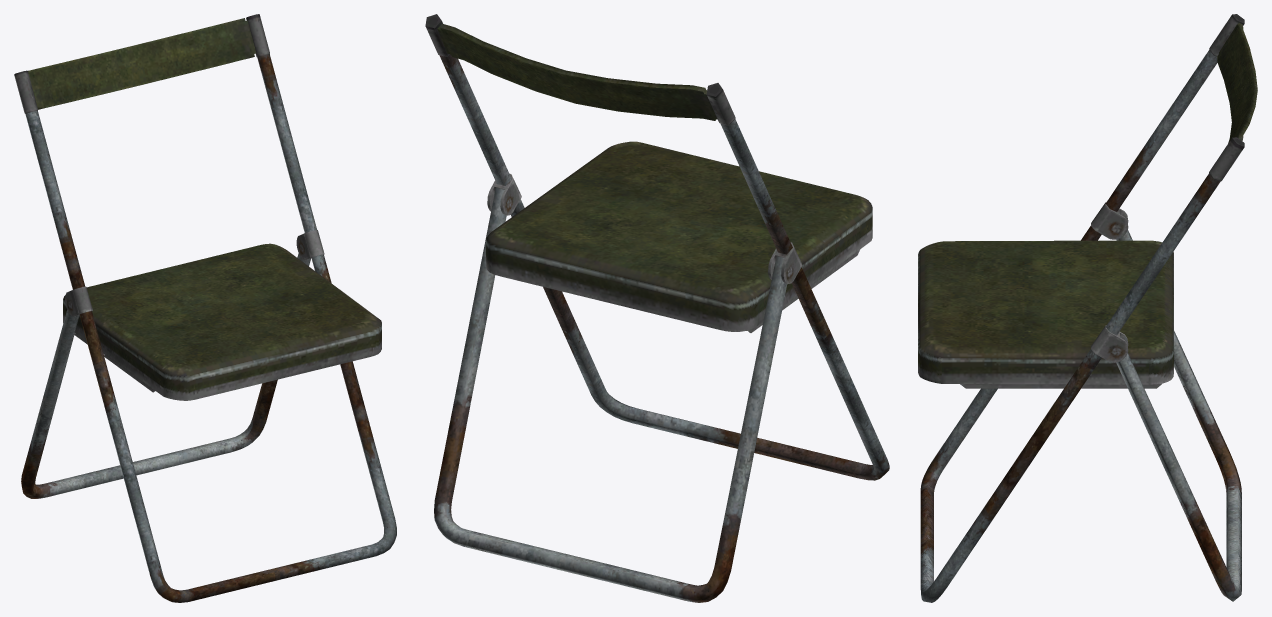
Rendered from 056_FoldingChair.fbx.
The picture shows the model from 3 angles, left to right: view 1: azimuth 30°, elevation 25°; view 2: azimuth 150°, elevation 25°; view 3: azimuth 270°, elevation 25°; orthographic projection. The views are drawn at different scales.
Visible parts, largest first — view 1: LOD_1_Group_4_Sub_1__sm30_056_FoldingChair01A_A_Mat, LOD_1_Group_3_Sub_1__sm30_056_FoldingChair01A_A_Mat, LOD_1_Group_1_Sub_1__sm30_056_FoldingChair01A_A_Mat, LOD_1_Group_5_Sub_1__sm30_056_FoldingChair01A_A_Mat, LOD_1_Group_0_Sub_1__sm30_056_FoldingChair01A_A_Mat; view 2: LOD_1_Group_4_Sub_1__sm30_056_FoldingChair01A_A_Mat, LOD_1_Group_5_Sub_1__sm30_056_FoldingChair01A_A_Mat, LOD_1_Group_3_Sub_1__sm30_056_FoldingChair01A_A_Mat, LOD_1_Group_1_Sub_1__sm30_056_FoldingChair01A_A_Mat, LOD_1_Group_0_Sub_1__sm30_056_FoldingChair01A_A_Mat; view 3: LOD_1_Group_4_Sub_1__sm30_056_FoldingChair01A_A_Mat, LOD_1_Group_3_Sub_1__sm30_056_FoldingChair01A_A_Mat, LOD_1_Group_5_Sub_1__sm30_056_FoldingChair01A_A_Mat, LOD_1_Group_1_Sub_1__sm30_056_FoldingChair01A_A_Mat, LOD_1_Group_0_Sub_1__sm30_056_FoldingChair01A_A_Mat, LOD_1_Group_6_Sub_1__sm30_056_FoldingChair01A_A_Mat.
Part boxes in pixels (x1=…): LOD_1_Group_4_Sub_1__sm30_056_FoldingChair01A_A_Mat: x1=63, y1=243, x2=381, y2=400; LOD_1_Group_3_Sub_1__sm30_056_FoldingChair01A_A_Mat: x1=14, y1=14, x2=396, y2=602; LOD_1_Group_1_Sub_1__sm30_056_FoldingChair01A_A_Mat: x1=28, y1=18, x2=256, y2=109; LOD_1_Group_5_Sub_1__sm30_056_FoldingChair01A_A_Mat: x1=21, y1=253, x2=310, y2=498; LOD_1_Group_0_Sub_1__sm30_056_FoldingChair01A_A_Mat: x1=65, y1=230, x2=324, y2=316; LOD_1_Group_4_Sub_1__sm30_056_FoldingChair01A_A_Mat: x1=486, y1=141, x2=872, y2=331; LOD_1_Group_5_Sub_1__sm30_056_FoldingChair01A_A_Mat: x1=434, y1=188, x2=787, y2=602; LOD_1_Group_3_Sub_1__sm30_056_FoldingChair01A_A_Mat: x1=425, y1=14, x2=889, y2=480; LOD_1_Group_1_Sub_1__sm30_056_FoldingChair01A_A_Mat: x1=437, y1=23, x2=717, y2=120; LOD_1_Group_0_Sub_1__sm30_056_FoldingChair01A_A_Mat: x1=487, y1=173, x2=802, y2=284; LOD_1_Group_4_Sub_1__sm30_056_FoldingChair01A_A_Mat: x1=918, y1=240, x2=1173, y2=384; LOD_1_Group_3_Sub_1__sm30_056_FoldingChair01A_A_Mat: x1=920, y1=14, x2=1244, y2=602; LOD_1_Group_5_Sub_1__sm30_056_FoldingChair01A_A_Mat: x1=1116, y1=212, x2=1241, y2=601; LOD_1_Group_1_Sub_1__sm30_056_FoldingChair01A_A_Mat: x1=1217, y1=23, x2=1257, y2=143; LOD_1_Group_0_Sub_1__sm30_056_FoldingChair01A_A_Mat: x1=1091, y1=202, x2=1128, y2=362; LOD_1_Group_6_Sub_1__sm30_056_FoldingChair01A_A_Mat: x1=960, y1=383, x2=1161, y2=388.
Bounding box in the file's own units: 0.6584 × 1.11 × 0.7261.
